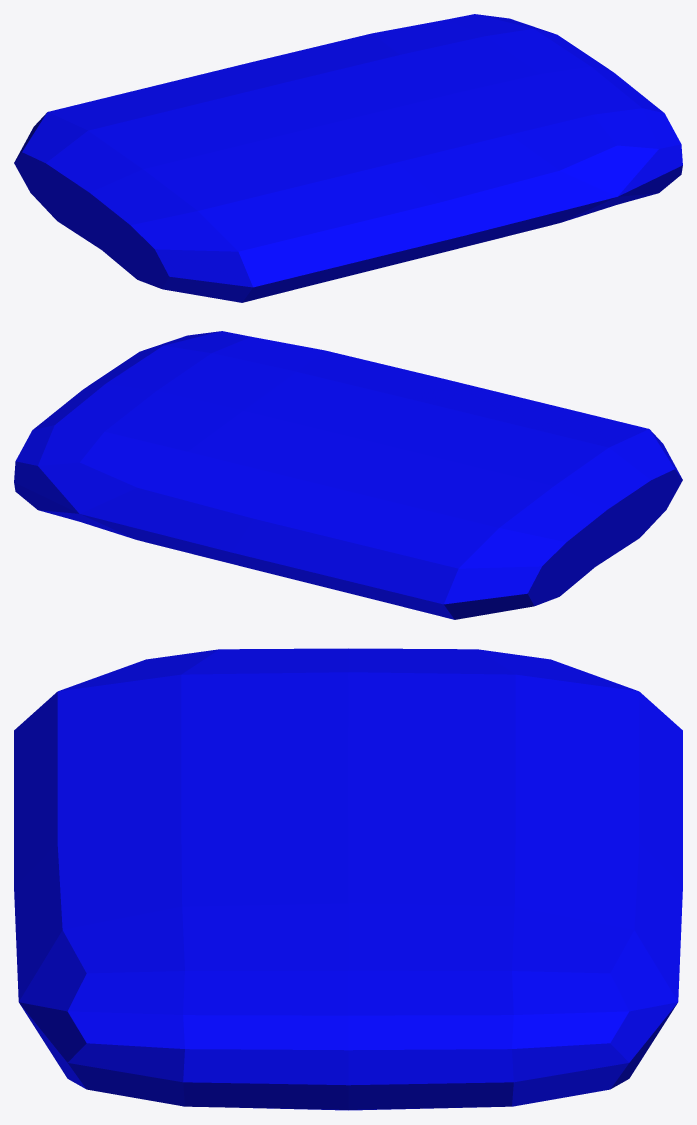
File: flaque_eau.fbx
3 views of the same model, one above another, from view 1: azimuth 30°, elevation 25°; view 2: azimuth 150°, elevation 25°; view 3: azimuth 270°, elevation 25° (orthographic). The views are drawn at different scales.
Visible parts, largest first — view 1: Eau.002; view 2: Eau.002; view 3: Eau.002.
Boxes of the visible parts, bbox=[...] form: Eau.002: bbox=[14, 14, 682, 302]; Eau.002: bbox=[14, 331, 682, 619]; Eau.002: bbox=[14, 648, 682, 1110].
Bounding box in the file's own units: 29.56 × 4.19 × 21.1.
